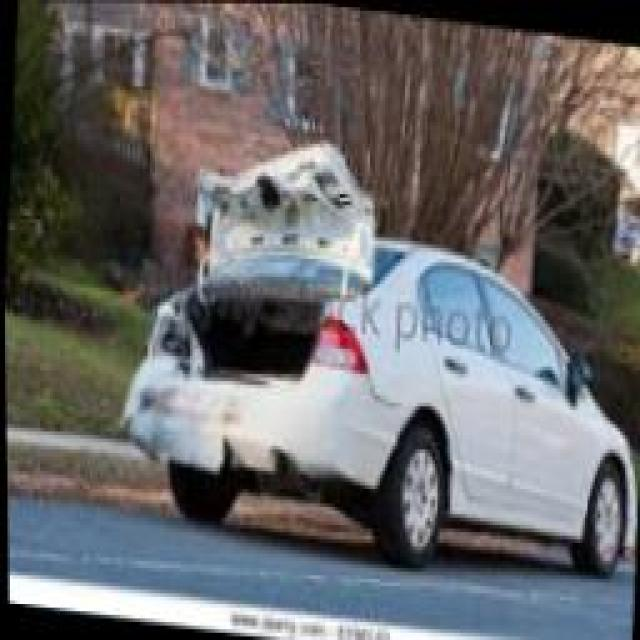Bumper: (115, 358, 411, 492)
Dickey: (177, 157, 380, 384)
Light: (140, 299, 195, 363)
